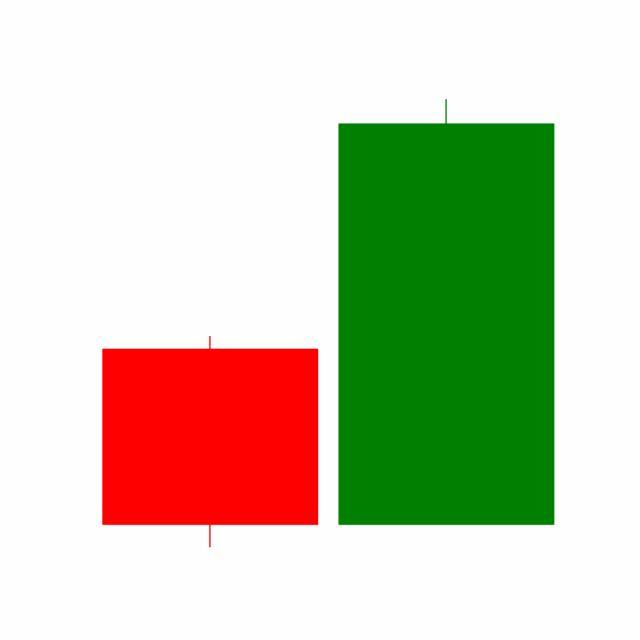Marubozu: (328, 94, 566, 529)
